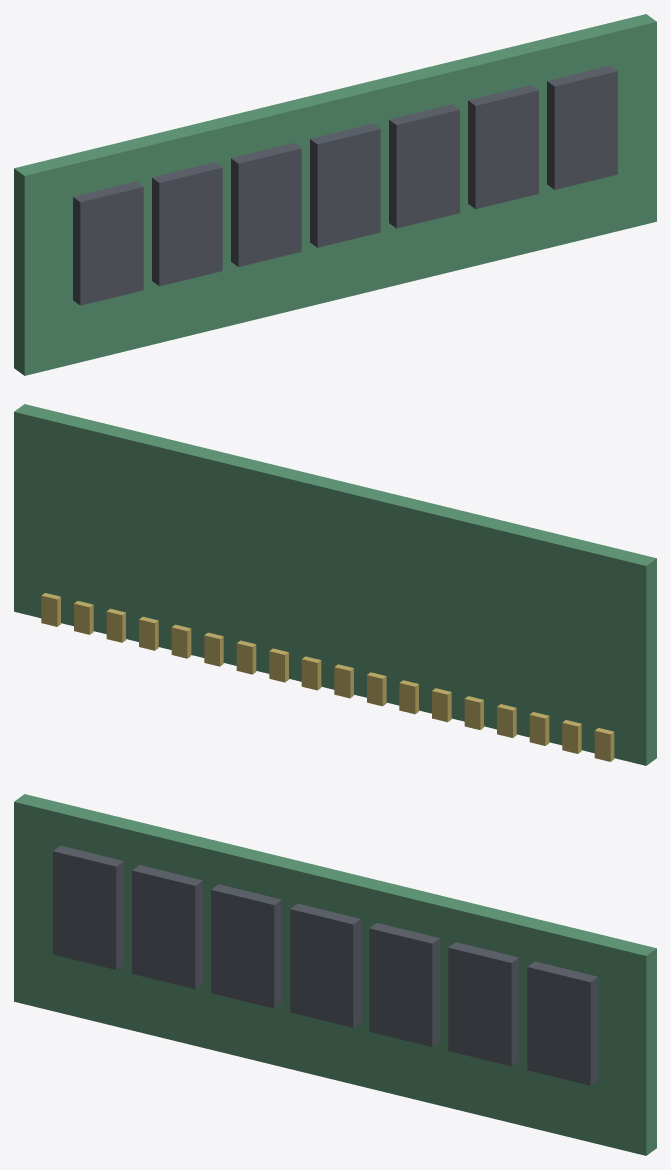
File: ram.glb
3 views of the same model, one above another, from view 1: azimuth 30°, elevation 25°; view 2: azimuth 150°, elevation 25°; view 3: azimuth 330°, elevation 25° (orthographic).
Visible parts, largest first — view 1: part_0, part_4, part_5, part_6, part_1, part_2, part_7, part_3; view 2: part_0, part_17, part_19, part_21, part_8, part_10, part_9, part_13, part_14, part_18, part_22, part_23 (+7 smaller); view 3: part_0, part_2, part_3, part_4, part_1, part_6, part_7, part_5.
Boxes of the visible parts, x1,y1,x2,y2 form: part_0: (14, 14, 656, 375); part_4: (310, 123, 380, 247); part_5: (389, 104, 459, 228); part_6: (468, 85, 538, 209); part_1: (73, 181, 143, 305); part_2: (152, 162, 222, 286); part_7: (547, 65, 617, 189); part_3: (231, 143, 301, 266); part_0: (14, 404, 656, 765); part_17: (301, 656, 321, 690); part_19: (236, 640, 256, 674); part_21: (171, 624, 191, 658); part_8: (594, 728, 614, 761); part_10: (529, 712, 549, 745); part_9: (562, 720, 581, 753); part_13: (432, 688, 451, 722); part_14: (399, 680, 418, 714); part_18: (269, 648, 288, 682); part_22: (139, 616, 158, 650); part_23: (106, 608, 125, 642); part_0: (14, 794, 656, 1155); part_2: (132, 865, 202, 989); part_3: (211, 884, 281, 1008); part_4: (290, 903, 360, 1027); part_1: (53, 845, 123, 969); part_6: (448, 942, 518, 1066); part_7: (527, 961, 597, 1085); part_5: (369, 923, 439, 1046).
Size of the model in its own units: 4.8 by 1.46 by 0.305.
